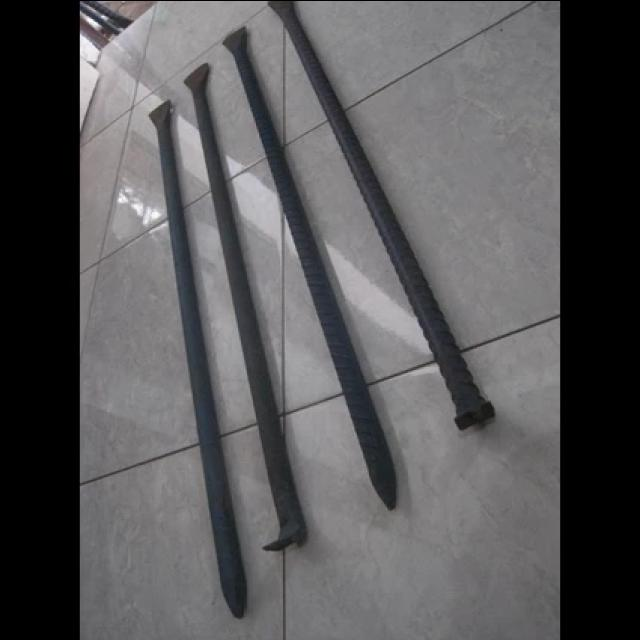Linggis: (182, 58, 307, 561)
